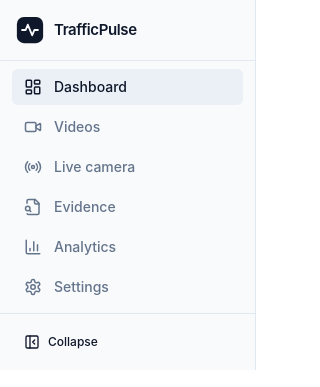
Test: Sidebar › collapses via the toggle
Click the button with aria-label "collapse sidebar" at (128, 342), box 12,326 -> 243,358
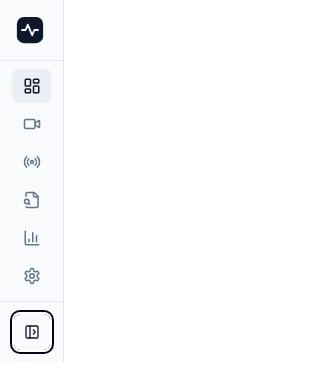
expect the button named "expand sidebar" is shown: met, box 14,314 -> 50,350
